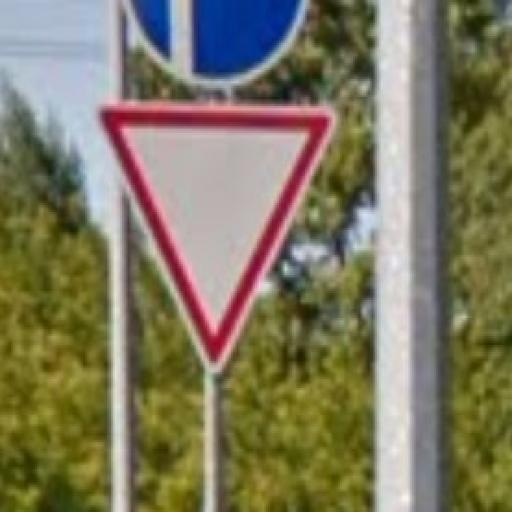traffic_sign: (92, 103, 339, 376)
